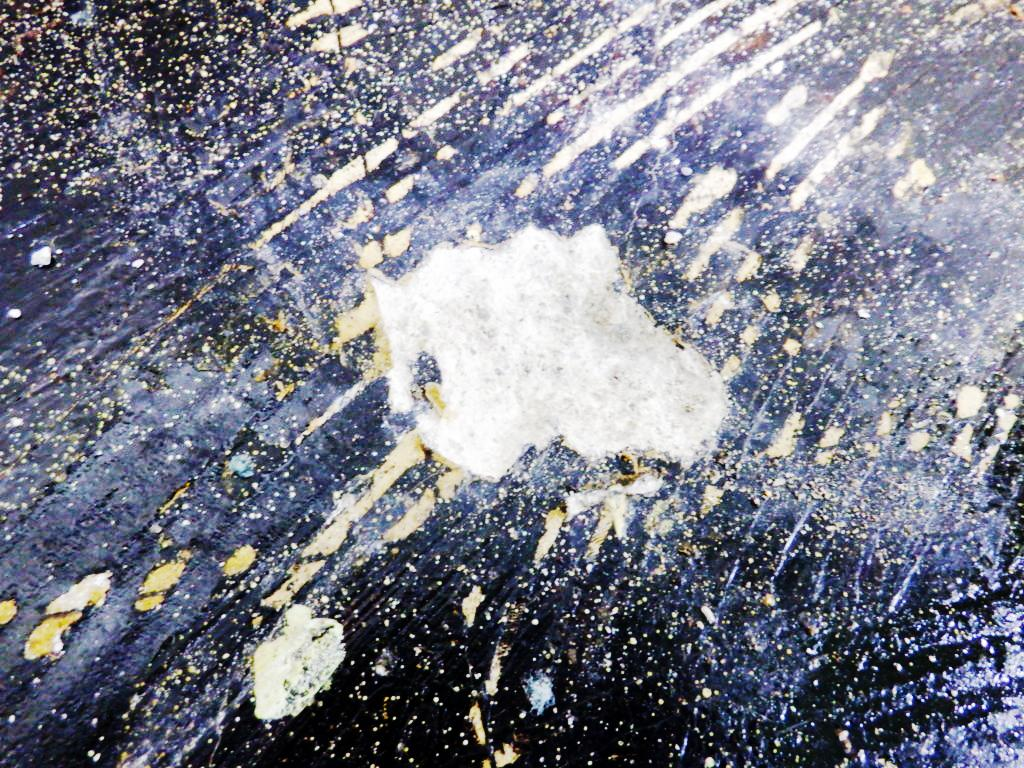Bird Poop: (263, 227, 727, 608), (515, 0, 799, 196), (610, 24, 820, 168), (254, 139, 398, 248), (769, 52, 892, 178), (513, 4, 656, 104), (537, 473, 662, 560), (253, 606, 343, 721), (790, 107, 885, 209), (544, 54, 640, 124), (287, 0, 381, 52), (941, 0, 1023, 49), (655, 0, 737, 49), (685, 209, 740, 280), (670, 170, 736, 227), (974, 394, 1019, 476), (383, 490, 438, 542), (46, 573, 110, 614), (25, 612, 81, 658), (431, 29, 481, 70), (481, 45, 527, 83), (766, 412, 803, 458), (894, 159, 935, 199), (766, 85, 806, 124), (484, 635, 510, 695), (140, 559, 185, 593), (523, 671, 555, 715), (414, 94, 459, 125), (816, 427, 843, 464), (224, 545, 256, 574), (957, 385, 985, 418), (462, 586, 484, 626), (468, 699, 486, 747), (341, 201, 373, 228), (886, 127, 911, 159), (705, 294, 731, 324), (387, 175, 414, 202), (385, 228, 411, 256), (790, 238, 811, 271), (737, 252, 760, 282), (701, 485, 723, 515), (359, 241, 382, 268), (494, 743, 519, 767), (953, 427, 971, 460), (720, 356, 740, 379), (136, 594, 163, 610), (907, 432, 929, 451), (0, 600, 16, 625), (741, 325, 758, 345), (763, 292, 780, 311), (877, 412, 890, 435), (784, 338, 800, 355), (440, 471, 461, 480), (506, 613, 519, 622)
